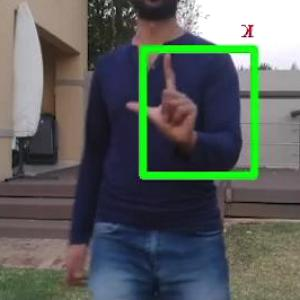land_hand: (122, 43, 213, 150)
